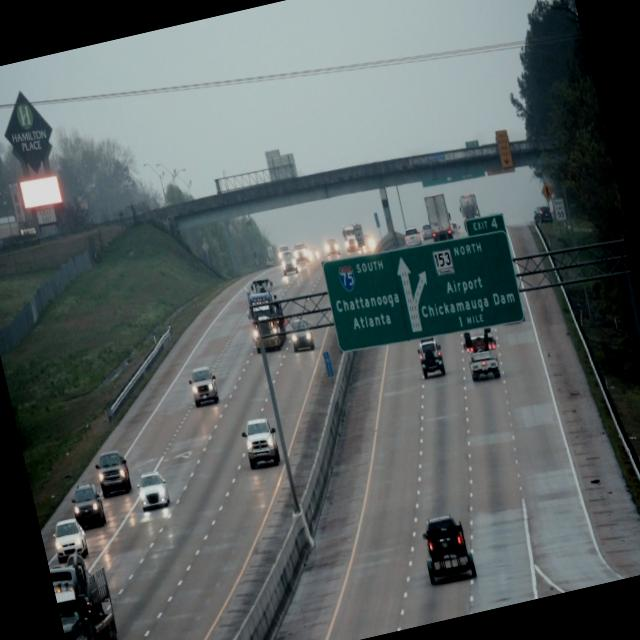Vehicle: (419, 512, 480, 588), (246, 288, 290, 352), (460, 324, 505, 386), (238, 416, 284, 474), (91, 444, 132, 496), (70, 478, 108, 532), (50, 516, 90, 564), (136, 470, 174, 514), (413, 333, 448, 380), (185, 363, 221, 408), (288, 316, 316, 355)
